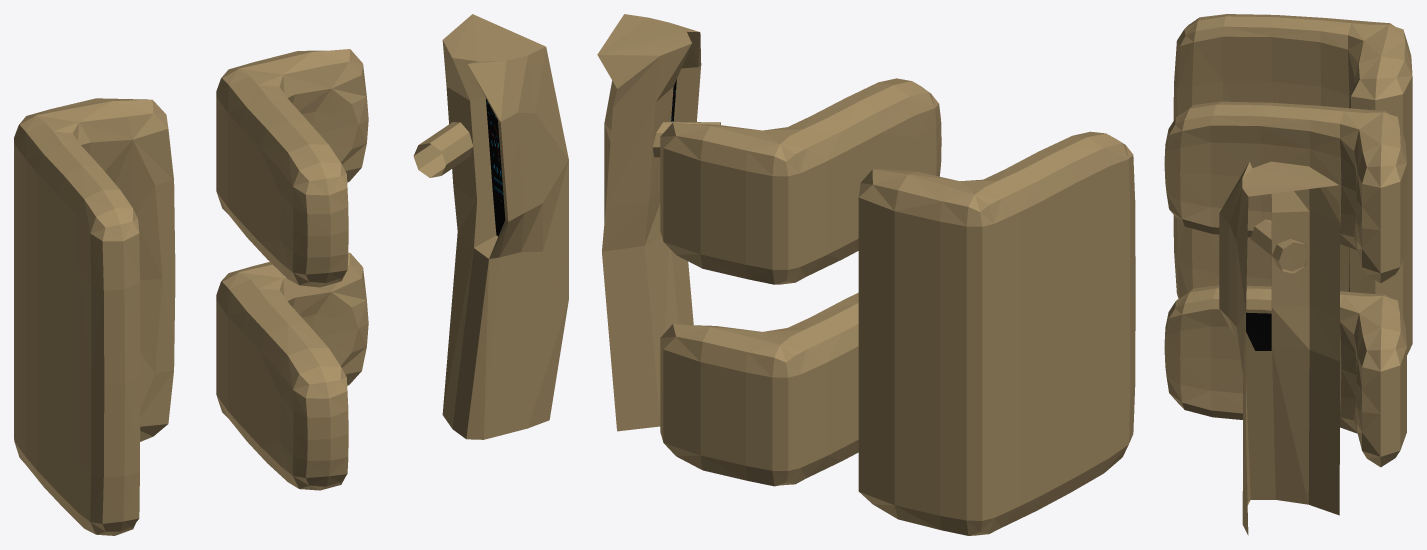
The model's file is interior.obj.
The picture shows the model from 3 angles, left to right: view 1: azimuth 30°, elevation 25°; view 2: azimuth 150°, elevation 25°; view 3: azimuth 270°, elevation 25°; orthographic projection. The views are drawn at different scales.
Parts seen in each view (by area): view 1: (null); view 2: (null); view 3: (null).
Boxes of the visible parts, bbox=[...] form: (null): bbox=[14, 14, 568, 535]; (null): bbox=[597, 14, 1135, 535]; (null): bbox=[1164, 14, 1412, 535].
Size of the model in its own units: 2.28 by 1.63 by 1.08.
Materials: 3 (1 with a texture image).
